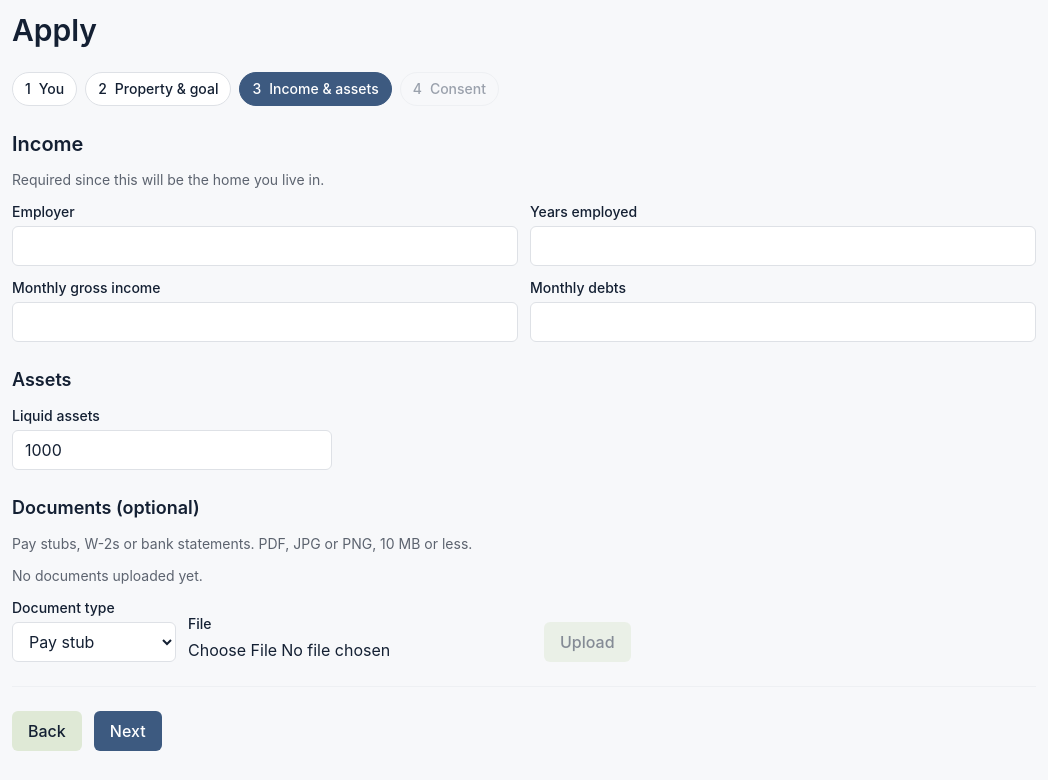
it: ApplyWizard › Back within 1s flushes the pending edit before switching tabs
The image size is (1048, 780).
Expected: the heading "Income" is shown, [12, 132, 83, 156]
Replace the text in the field labelled "Liquid assets" with "5000" at (172, 450), box [12, 430, 332, 470]
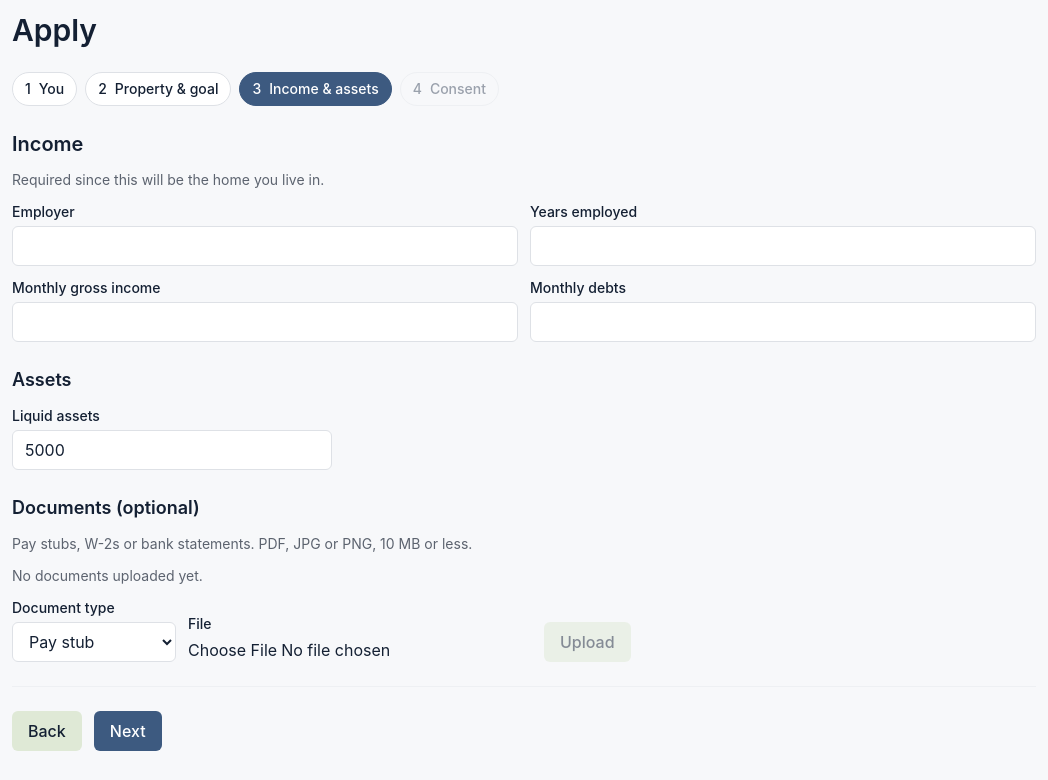
Click the button "Back".
click(47, 731)  # box [12, 711, 82, 751]
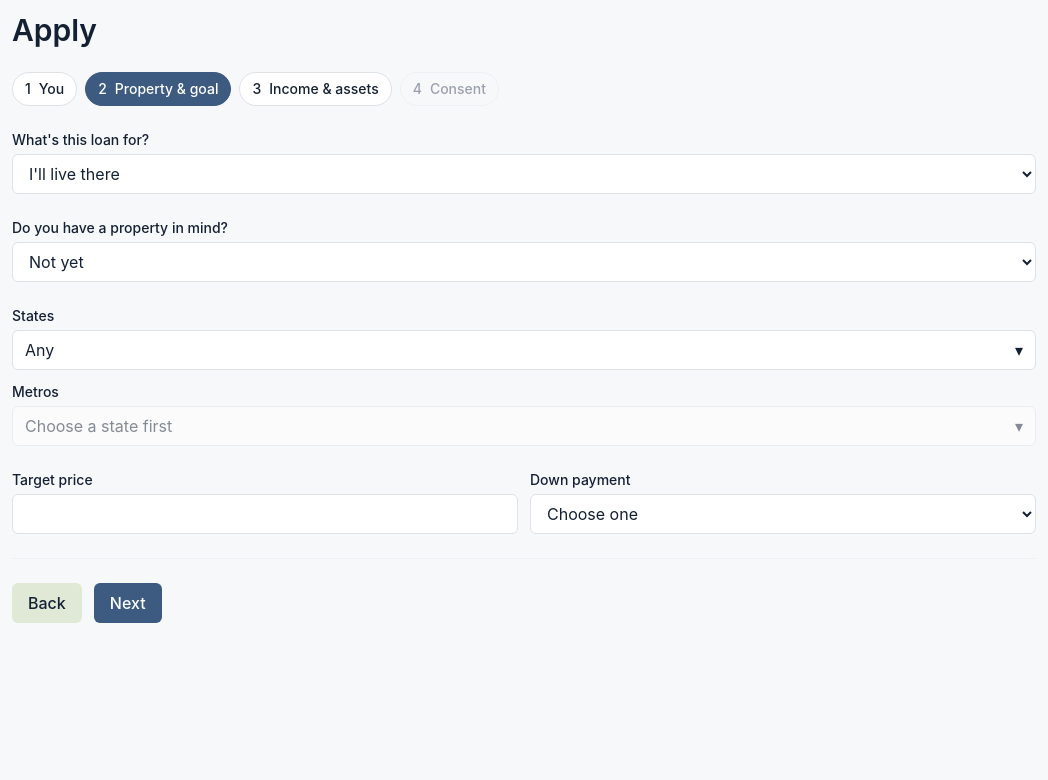
Expected: the dropdown labelled "What's this loan for?" is shown, [12, 154, 1036, 194]
